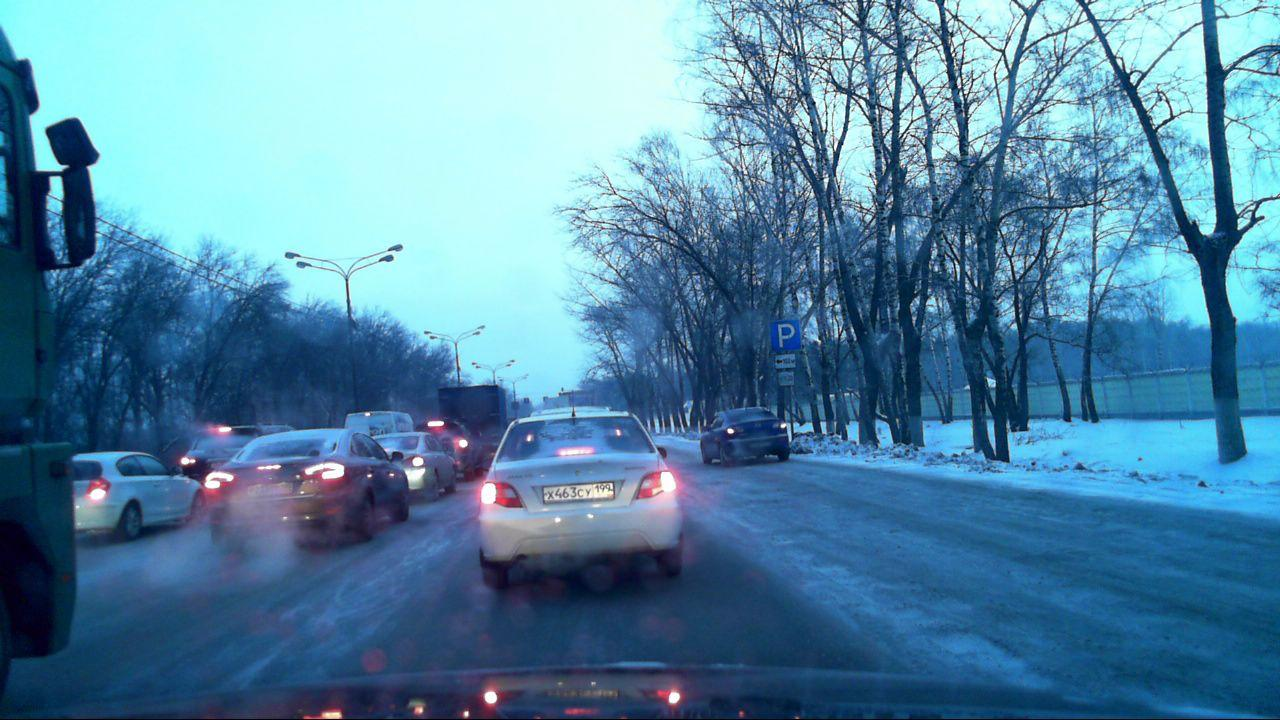6_4: (770, 320, 800, 350)
8_1_4: (772, 353, 798, 369)
8_8: (776, 372, 796, 387)
